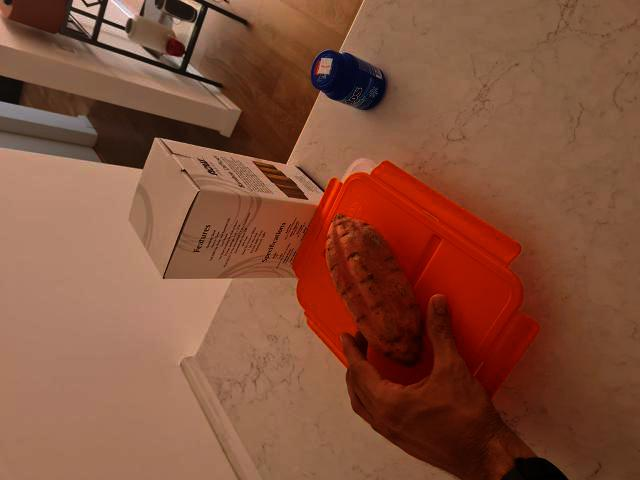sweet_potato: (324, 214, 425, 372)
